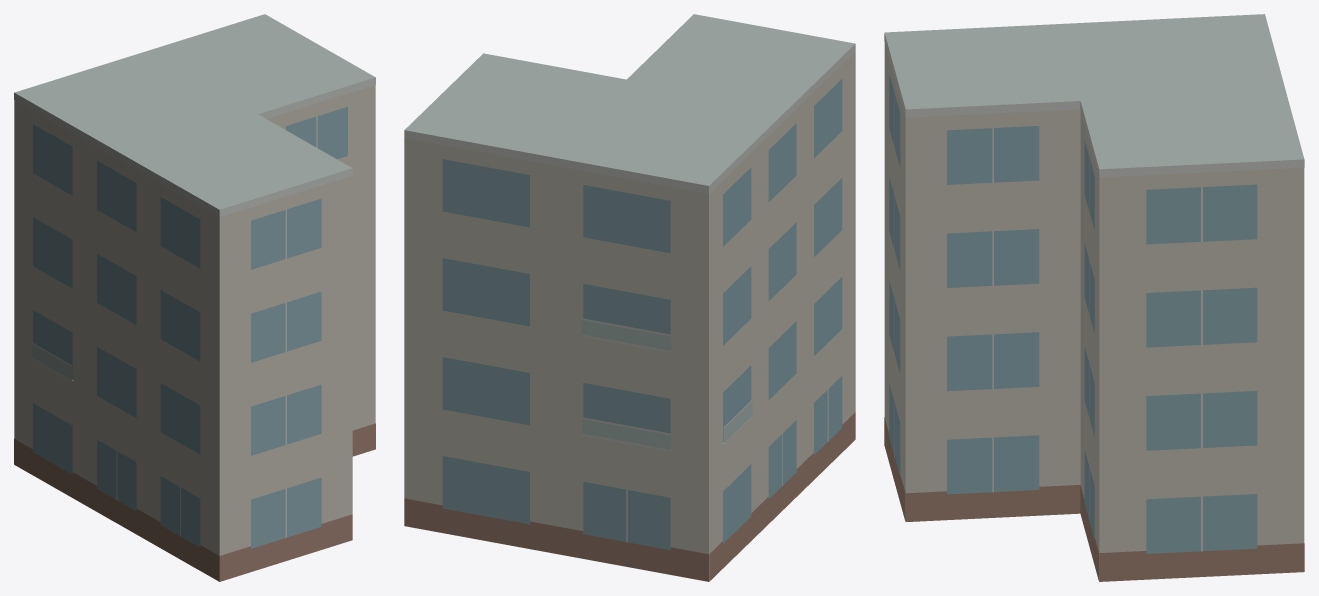
File: residential-e725b079-57ab-4a86-8288-a7dff747ccae.glb
The picture shows the model from 3 angles, left to right: view 1: azimuth 30°, elevation 25°; view 2: azimuth 150°, elevation 25°; view 3: azimuth 270°, elevation 25°; orthographic projection. The views are drawn at different scales.
Visible parts, largest first — view 1: residential-e725b079-57ab-4a86-8288-a7dff747ccae.tmp; view 2: residential-e725b079-57ab-4a86-8288-a7dff747ccae.tmp; view 3: residential-e725b079-57ab-4a86-8288-a7dff747ccae.tmp.
Boxes of the visible parts, box(x1,y1,x2,y2) form: residential-e725b079-57ab-4a86-8288-a7dff747ccae.tmp: box(14, 14, 375, 581); residential-e725b079-57ab-4a86-8288-a7dff747ccae.tmp: box(404, 14, 855, 581); residential-e725b079-57ab-4a86-8288-a7dff747ccae.tmp: box(884, 14, 1304, 581).
Bounding box in the file's own units: 9.86 × 12.2 × 11.27.
